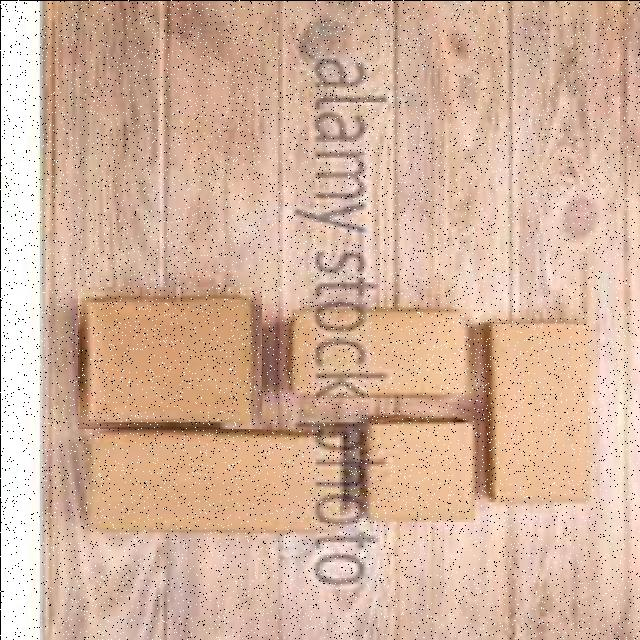normal: (77, 286, 261, 428), (482, 314, 598, 506)
